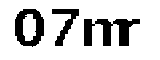0: (10, 8, 48, 52)
7: (50, 3, 81, 52)
m: (82, 15, 123, 52)
r: (123, 14, 145, 49)
